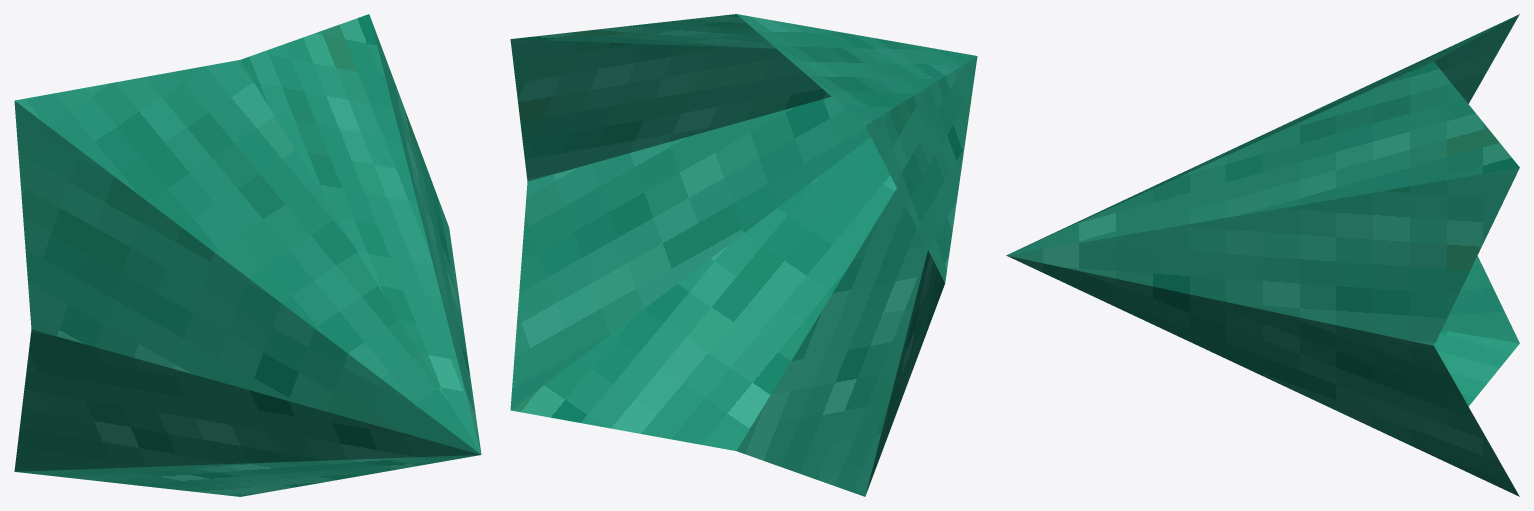
File: tree-pine-top.glb
3 renders of one model, left to right at view 1: azimuth 30°, elevation 25°; view 2: azimuth 150°, elevation 25°; view 3: azimuth 270°, elevation 25°, orthographic. The views are drawn at different scales.
Parts seen in each view (by area): view 1: tree-pine-top; view 2: tree-pine-top; view 3: tree-pine-top.
Boxes of the visible parts, x1=… form: tree-pine-top: x1=14, y1=14, x2=481, y2=496; tree-pine-top: x1=510, y1=14, x2=977, y2=496; tree-pine-top: x1=1006, y1=14, x2=1519, y2=496.
Size of the model in its own units: 1.67 by 1.67 by 2.
Materials: 1 (1 with a texture image).
